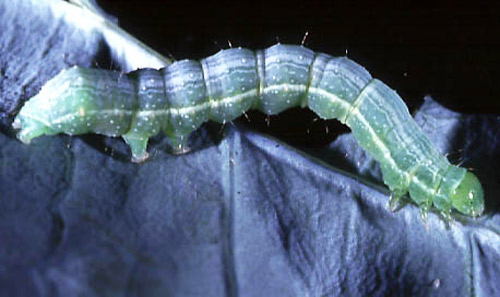Armyworm: (9, 38, 490, 225)
